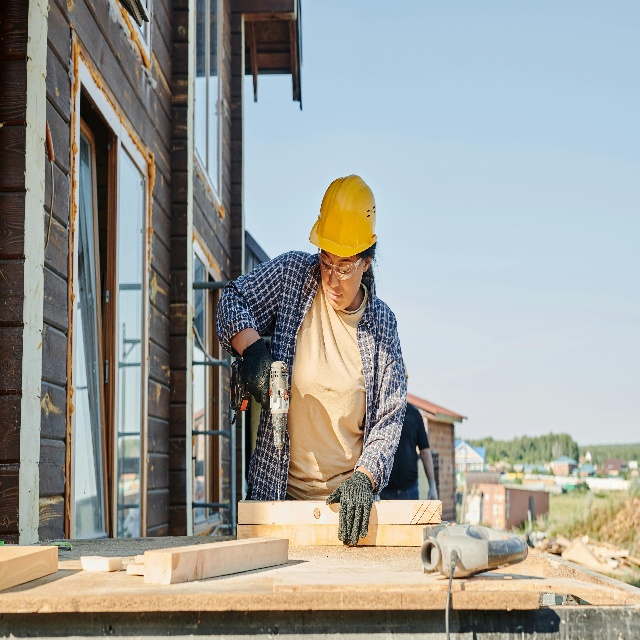Gafas: (318, 248, 362, 280)
Guantes: (326, 470, 373, 545), (242, 342, 270, 408), (427, 480, 439, 501)
